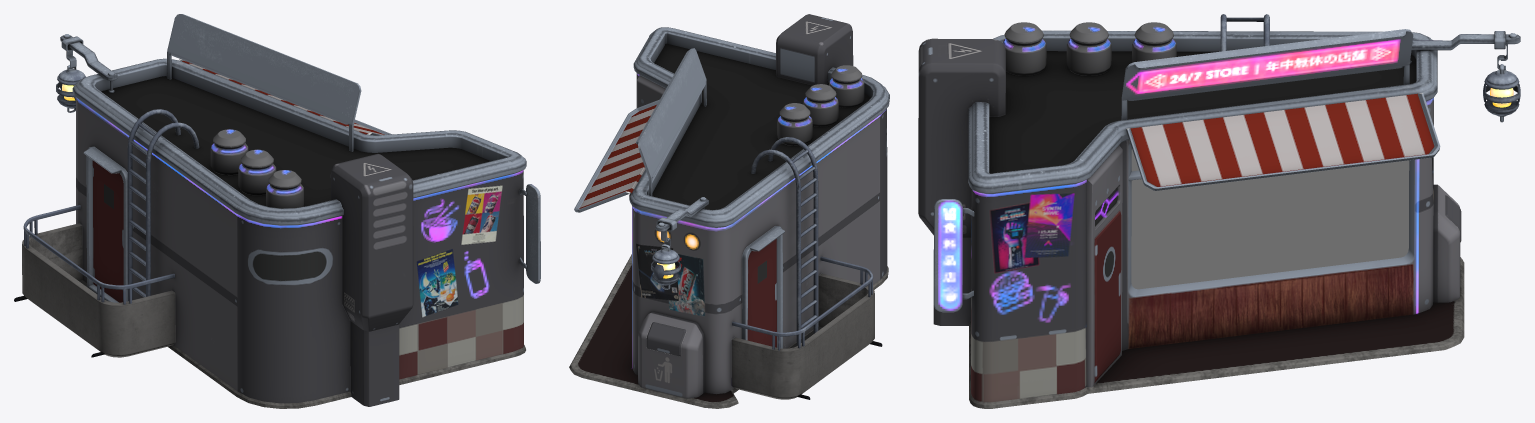
File: store.fbx
The picture shows the model from 3 angles, left to right: view 1: azimuth 30°, elevation 25°; view 2: azimuth 150°, elevation 25°; view 3: azimuth 270°, elevation 25°; orthographic projection. The views are drawn at different scales.
Parts seen in each view (by area): view 1: Object_4; view 2: Object_4; view 3: Object_4, Object_6.
Part boxes in pixels (box(x1,y1,x2,y2)): Object_4: box(14, 14, 540, 408); Object_4: box(569, 14, 889, 408); Object_4: box(918, 14, 1520, 408); Object_6: box(1131, 149, 1409, 289).
Bounding box in the file's own units: 610 × 421 × 798.
3 materials, 2 textured.
